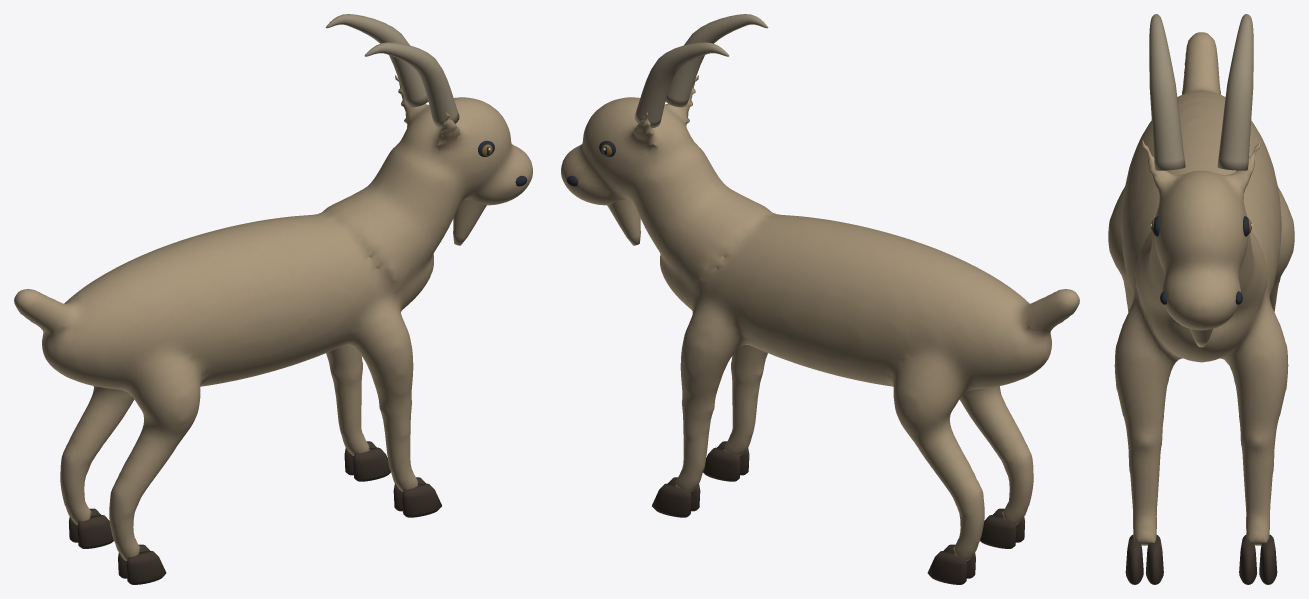
File: innerscene-horned-goat.glb
3 renders of one model, left to right at view 1: azimuth 30°, elevation 25°; view 2: azimuth 150°, elevation 25°; view 3: azimuth 270°, elevation 25°, orthographic. The views are drawn at different scales.
Parts seen in each view (by area): view 1: Continuous anatomical skin, Curving goat horn, Curving goat horn.001, Cloven tapered hoof.002, Cloven tapered hoof, Cloven tapered hoof.004, Cloven tapered hoof.006, Goat beard; view 2: Continuous anatomical skin, Curving goat horn.001, Curving goat horn, Cloven tapered hoof.007, Cloven tapered hoof.005, Cloven tapered hoof.001, Cloven tapered hoof.003, Goat beard; view 3: Continuous anatomical skin, Curving goat horn.001, Curving goat horn, Cloven tapered hoof, Cloven tapered hoof.005, Cloven tapered hoof.004, Cloven tapered hoof.001, Goat beard.
Boxes of the visible parts, left/top/right/bottom form: Continuous anatomical skin: left=14, top=75, right=532, bottom=560; Curving goat horn: left=364, top=42, right=459, bottom=128; Curving goat horn.001: left=325, top=14, right=428, bottom=107; Cloven tapered hoof.002: left=126, top=551, right=166, bottom=584; Cloven tapered hoof: left=402, top=483, right=441, bottom=517; Cloven tapered hoof.004: left=353, top=447, right=390, bottom=481; Cloven tapered hoof.006: left=77, top=515, right=113, bottom=548; Goat beard: left=453, top=199, right=486, bottom=245; Continuous anatomical skin: left=561, top=75, right=1079, bottom=560; Curving goat horn.001: left=634, top=42, right=729, bottom=128; Curving goat horn: left=665, top=14, right=768, bottom=107; Cloven tapered hoof.007: left=927, top=551, right=967, bottom=584; Cloven tapered hoof.005: left=652, top=483, right=691, bottom=517; Cloven tapered hoof.001: left=703, top=447, right=740, bottom=481; Cloven tapered hoof.003: left=980, top=515, right=1016, bottom=548; Goat beard: left=607, top=199, right=640, bottom=245; Continuous anatomical skin: left=1108, top=32, right=1294, bottom=545; Curving goat horn.001: left=1217, top=14, right=1253, bottom=170; Curving goat horn: left=1149, top=14, right=1185, bottom=170; Cloven tapered hoof: left=1125, top=535, right=1143, bottom=584; Cloven tapered hoof.005: left=1259, top=535, right=1277, bottom=584; Cloven tapered hoof.004: left=1239, top=535, right=1257, bottom=584; Cloven tapered hoof.001: left=1145, top=535, right=1163, bottom=584; Goat beard: left=1190, top=329, right=1212, bottom=347.
Size of the model in its own units: 1.19 by 1.04 by 0.3239.
Materials: 6 (6 with a texture image).
